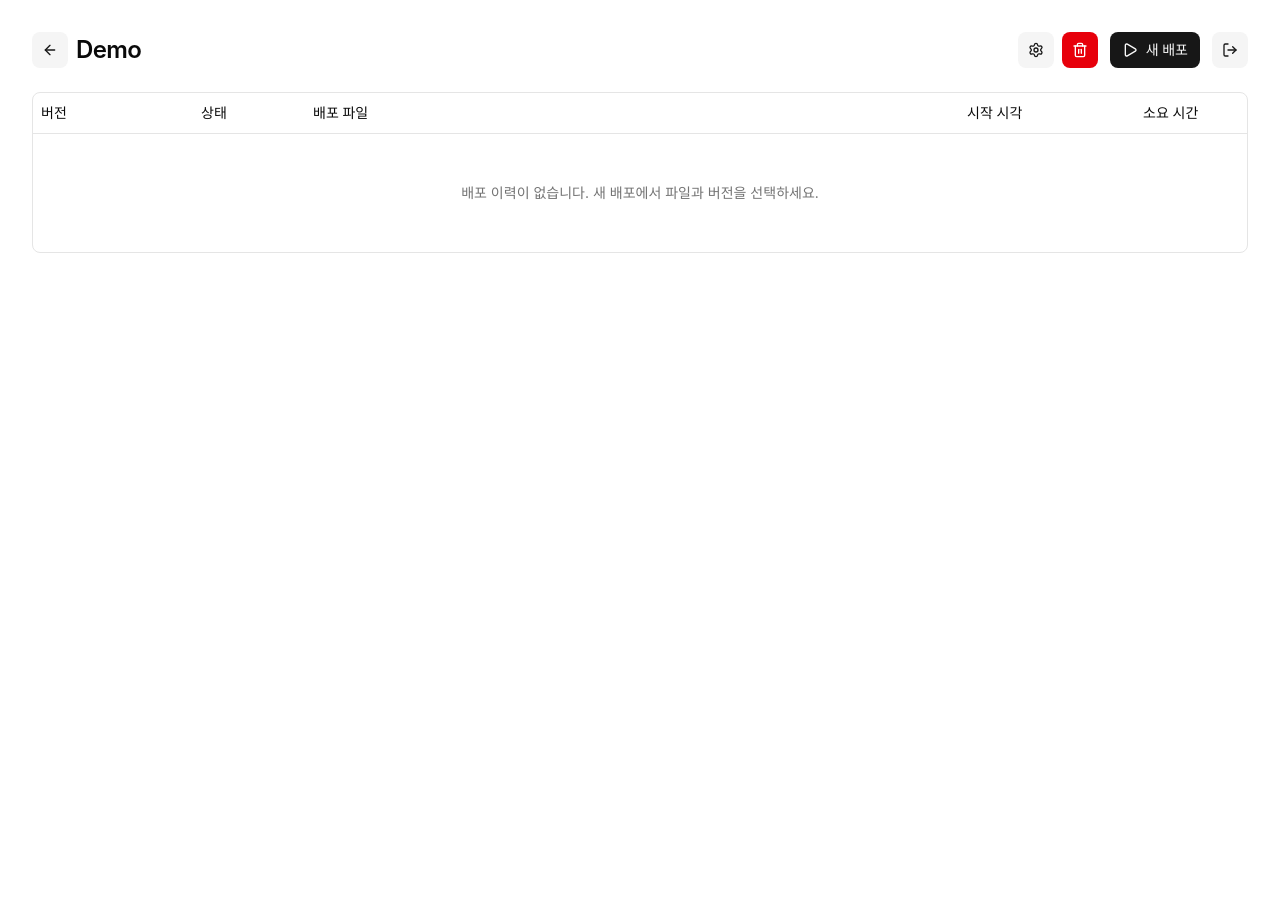
Test case: React deployment console › scripts load only when editing, and failed reads cannot overwrite the file
The image size is (1280, 900).
Expected: the heading "Demo" is shown, x1=76 y1=32 x2=141 y2=68
Step 1. Click the button named "설정" → point(1036, 50), box x1=1018 y1=32 x2=1054 y2=68
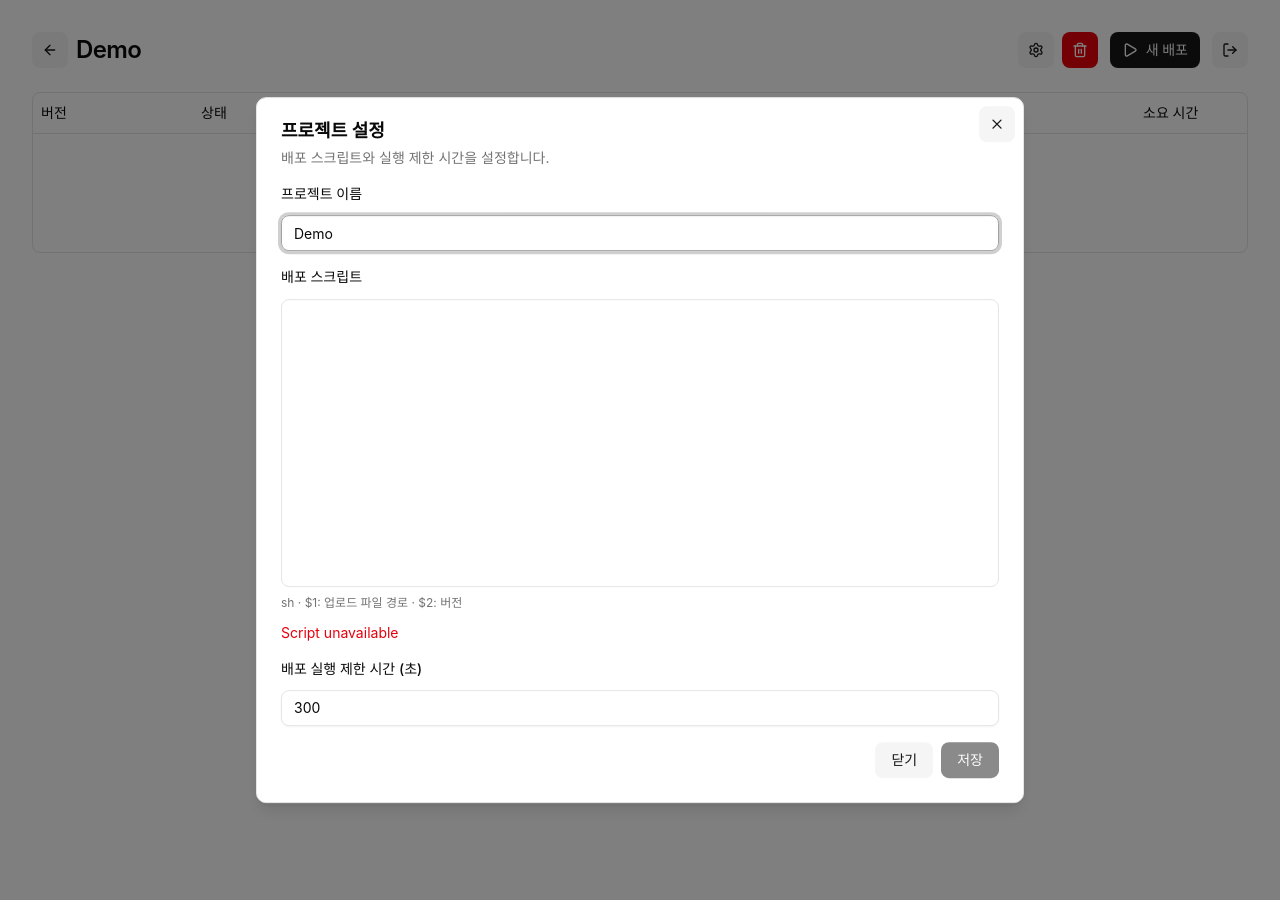
Expected: the text box labelled "배포 스크립트" is disabled, x1=282 y1=300 x2=998 y2=586
Now the text "Script unavailable" is shown, box x1=281 y1=624 x2=398 y2=641
Now the button "저장" is disabled, box x1=941 y1=742 x2=999 y2=778
Step 2. Click the button "닫기" → point(904, 760), box x1=876 y1=742 x2=933 y2=778
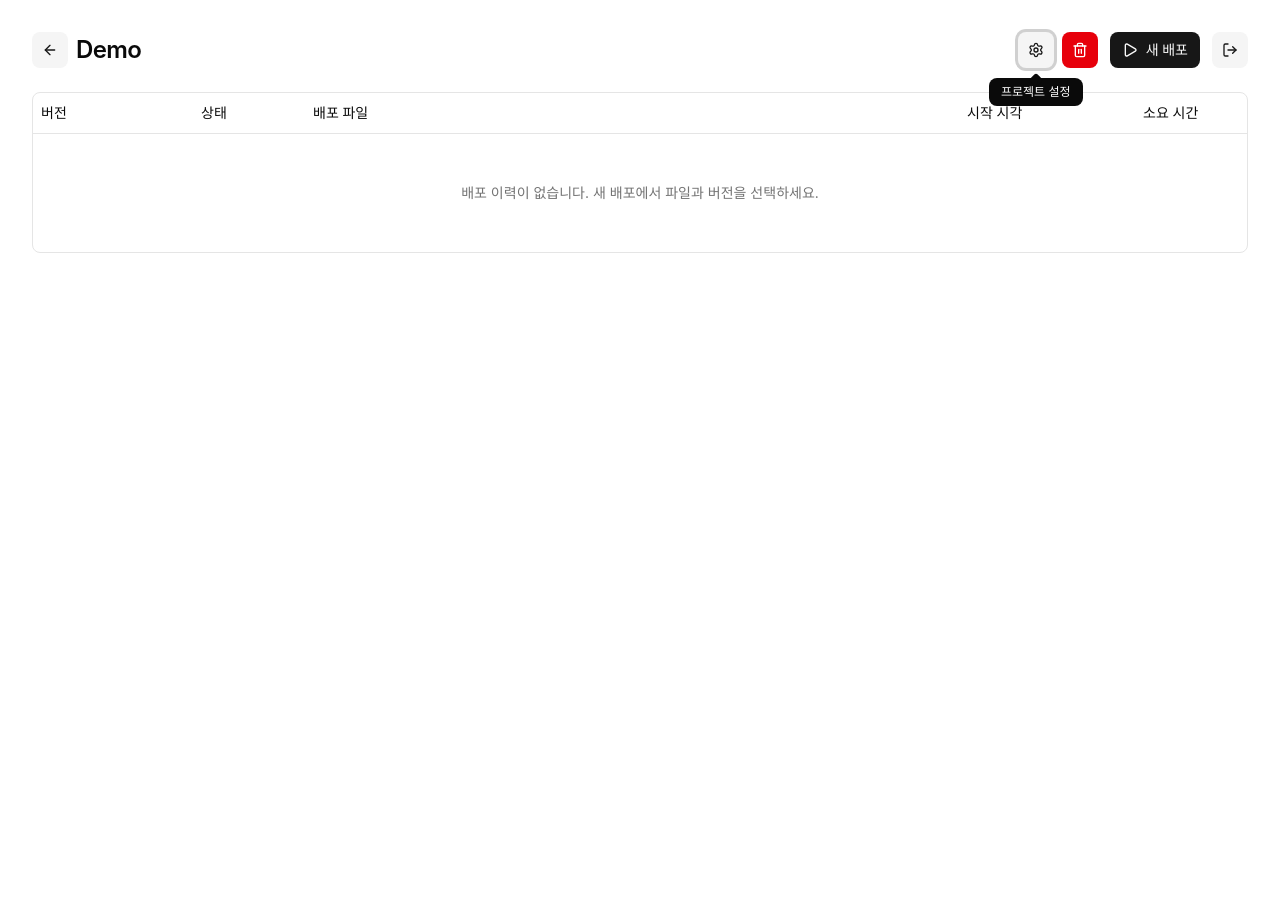
Step 3. Click the button named "설정" → point(1036, 50), box x1=1018 y1=32 x2=1054 y2=68
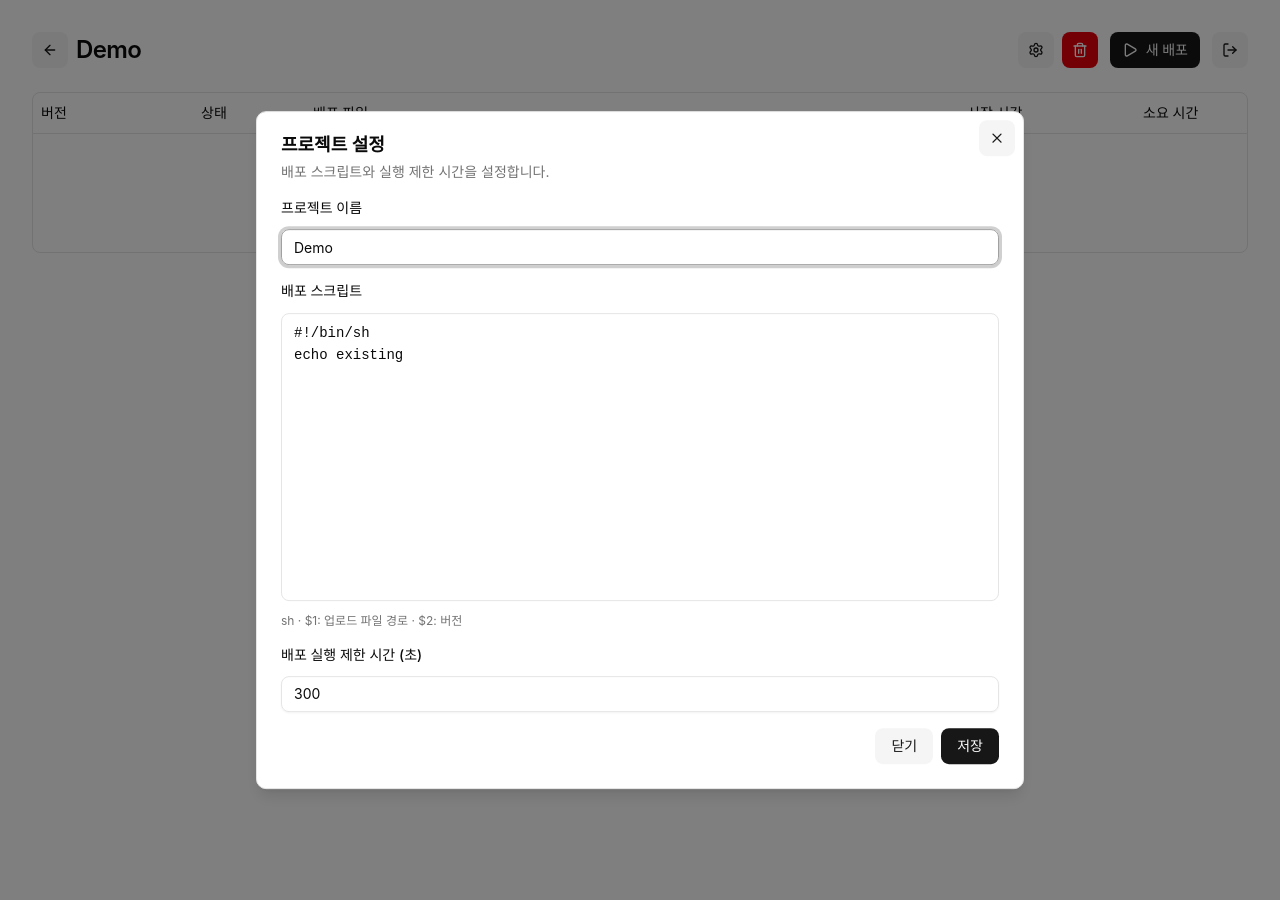
Now the button "저장" is enabled, box x1=941 y1=728 x2=999 y2=764
